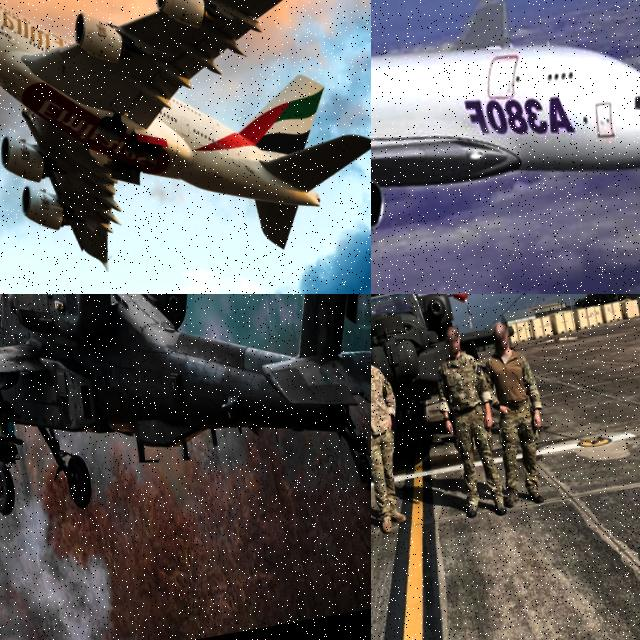A380: (0, 0, 371, 294), (371, 0, 640, 273)
Apache: (0, 294, 371, 587), (371, 294, 640, 513)
